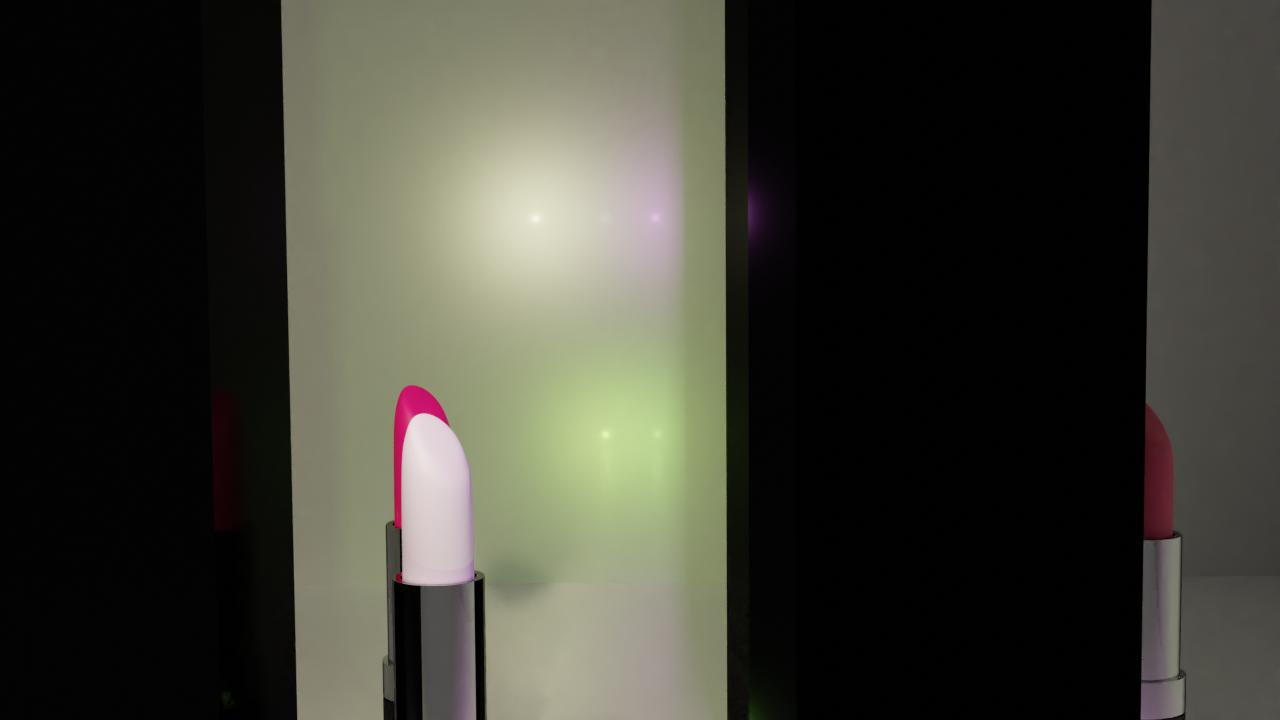CLASSIFIER_NAME: (386, 406, 498, 720)
